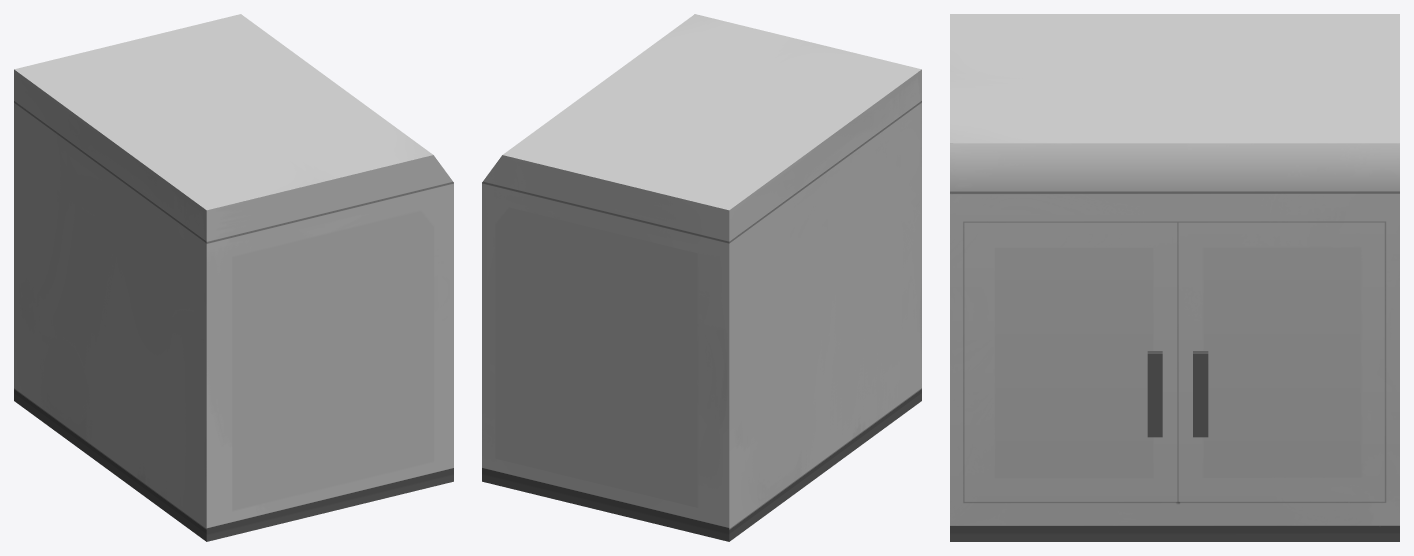
The model's file is Kcabinet.fbx.
3 renders of one model, left to right at view 1: azimuth 30°, elevation 25°; view 2: azimuth 150°, elevation 25°; view 3: azimuth 270°, elevation 25°, orthographic. The views are drawn at different scales.
Visible parts, largest first — view 1: Kcabinet; view 2: Kcabinet; view 3: Kcabinet, RHand, LHand.
Boxes of the visible parts, x1,y1,x2,y2 form: Kcabinet: (14, 14, 453, 541); Kcabinet: (482, 14, 921, 541); Kcabinet: (950, 14, 1399, 541); RHand: (1193, 351, 1208, 437); LHand: (1147, 351, 1162, 437).
Size of the model in its own units: 1.34 by 1.68 by 1.77.
